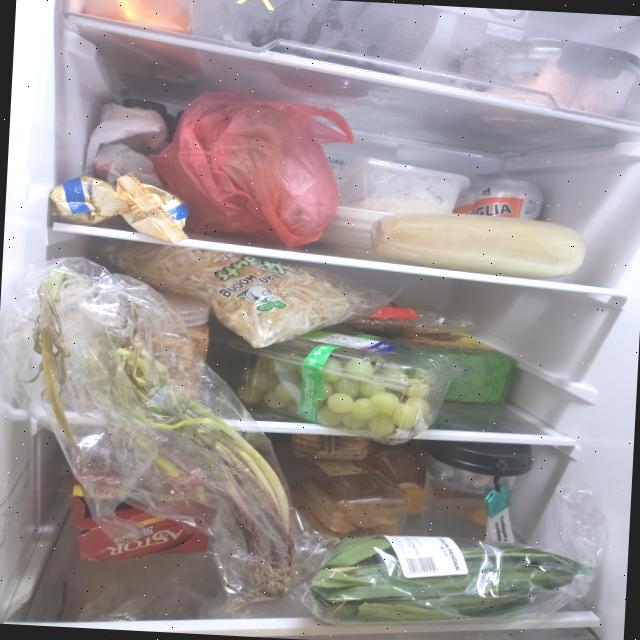bean_sprouts: (102, 240, 370, 353)
corn: (368, 209, 587, 282)
grape: (236, 346, 434, 441)
leafy_greens: (308, 532, 582, 634)
spring_onion: (10, 266, 310, 605)
unknown_bag: (148, 88, 358, 252)
